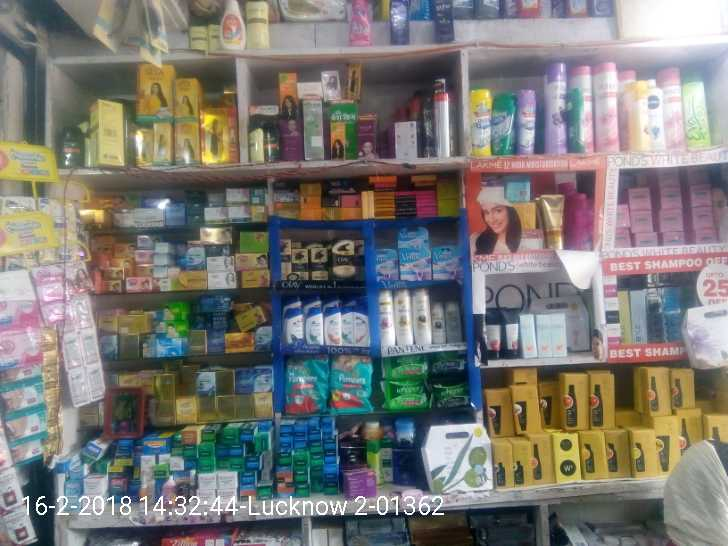venus: (398, 228, 433, 276), (433, 246, 460, 276), (377, 248, 397, 279)
